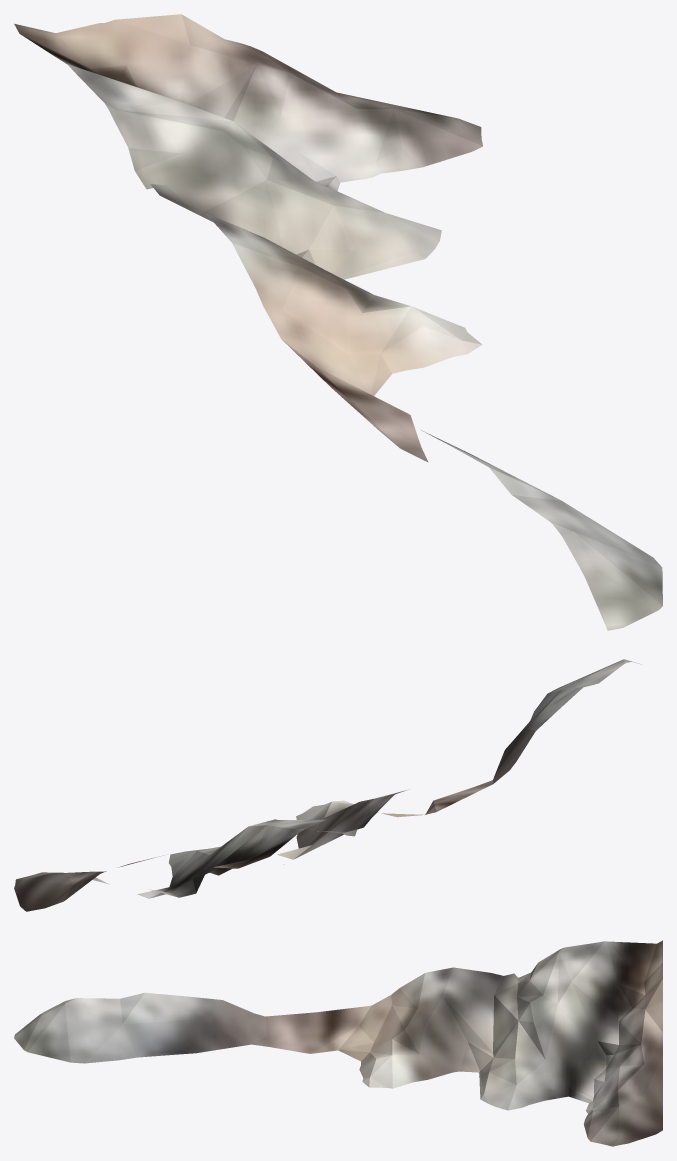
3 views of the same model, one above another, from view 1: azimuth 30°, elevation 25°; view 2: azimuth 150°, elevation 25°; view 3: azimuth 270°, elevation 25° (orthographic). The views are drawn at different scales.
Size of the model in its own units: 0.397 by 0.1553 by 0.9707.
Materials: 1 (1 with a texture image).
